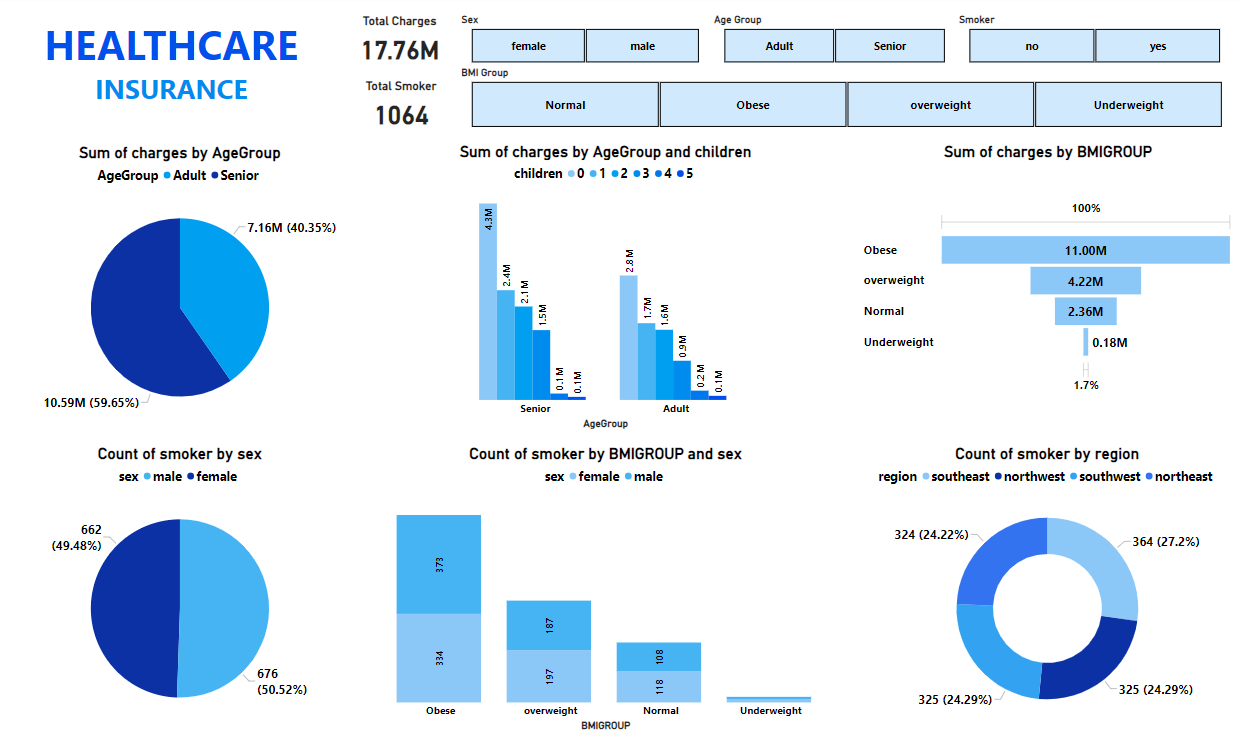

The page's visual inventory and layout, read from the dashboard file:
{"tool":"powerbi","page":{"name":"Page 1","canvas":[2500,1500],"ordinal":0},"visuals":[{"type":"pieChart","fields":{"Category":["insurance.sex"],"Y":["CountNonNull(insurance.smoker)"]},"box":[30.2,898.7,684.6,576],"z":0},{"type":"donutChart","fields":{"Category":["insurance.region"],"Y":["CountNonNull(insurance.smoker)"]},"box":[1731,898.7,741.9,576],"z":1000},{"type":"funnel","fields":{"Category":["insurance.BMIGROUP"],"Y":["Sum(insurance.charges)"]},"box":[1731,295.5,744.9,576],"z":2000},{"type":"clusteredColumnChart","fields":{"Series":["insurance.children"],"Category":["insurance.AgeGroup"],"Y":["Sum(insurance.charges)"]},"box":[711.7,295.5,1019.3,576],"z":3000},{"type":"pieChart","fields":{"Series":["insurance.AgeGroup"],"Y":["Sum(insurance.charges)"]},"box":[30.2,298.6,684.6,576],"z":4000},{"type":"columnChart","fields":{"Category":["insurance.BMIGROUP"],"Series":["insurance.sex"],"Y":["CountNonNull(insurance.smoker)"]},"box":[711.7,898.7,1019.3,576],"z":5000},{"type":"slicer","title":"BMI Group","fields":{"Values":["insurance.BMIGROUP"]},"box":[928.7,144.2,1545.6,127.4],"z":6000},{"type":"slicer","title":"Age Group","fields":{"Values":["insurance.AgeGroup"]},"box":[1431.6,40.2,489.5,103.9],"z":7000},{"type":"card","title":"Total Charges","fields":{"Values":["Sum(insurance.charges)"]},"box":[710.8,40.2,197.8,103.9],"z":8000},{"type":"slicer","title":"Smoker","fields":{"Values":["insurance.smoker"]},"box":[1921.1,40.2,549.9,103.9],"z":9000},{"type":"slicer","title":"Sex","fields":{"Values":["insurance.sex"]},"box":[928.7,40.2,502.9,103.9],"z":10000},{"type":"textbox","box":[30.2,40.2,650.4,231.3],"z":11000},{"type":"card","title":"Total Smoker","fields":{"Values":["Sum(insurance.smokercount)"]},"box":[714.1,167.6,197.8,103.9],"z":11001}]}

Visuals, with their boxes in screenshot pixels (x1, y1, x2, y2), scaled from the page's 2500x1500 canvas onto the 1240x741 screenshot:
pieChart - insurance.sex x CountNonNull(insurance.smoker): rect(15, 444, 355, 729)
donutChart - insurance.region x CountNonNull(insurance.smoker): rect(859, 444, 1227, 729)
funnel - insurance.BMIGROUP x Sum(insurance.charges): rect(859, 146, 1228, 431)
clusteredColumnChart - insurance.children x insurance.AgeGroup: rect(353, 146, 859, 431)
pieChart - insurance.AgeGroup x Sum(insurance.charges): rect(15, 148, 355, 432)
columnChart - insurance.BMIGROUP x insurance.sex: rect(353, 444, 859, 729)
"BMI Group" slicer: rect(461, 71, 1227, 134)
"Age Group" slicer: rect(710, 20, 953, 71)
"Total Charges" card: rect(353, 20, 451, 71)
"Smoker" slicer: rect(953, 20, 1226, 71)
"Sex" slicer: rect(461, 20, 710, 71)
textbox: rect(15, 20, 338, 134)
"Total Smoker" card: rect(354, 83, 452, 134)
